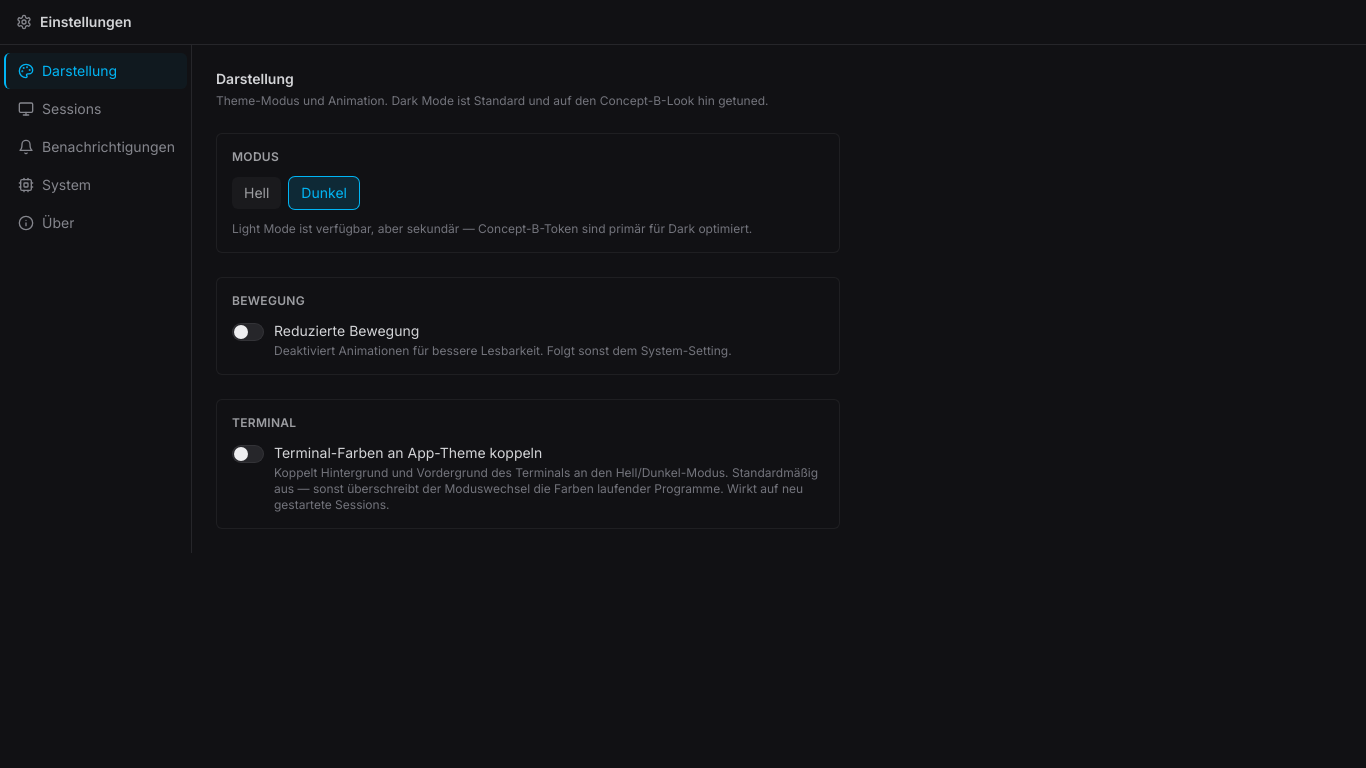
it: PreferencesView › switches the active panel when a different category is clicked
Expected: the heading "Darstellung" is shown, [216, 69, 294, 89]
Step 1. Click the button "Sessions" → (96, 109), box [4, 91, 187, 127]
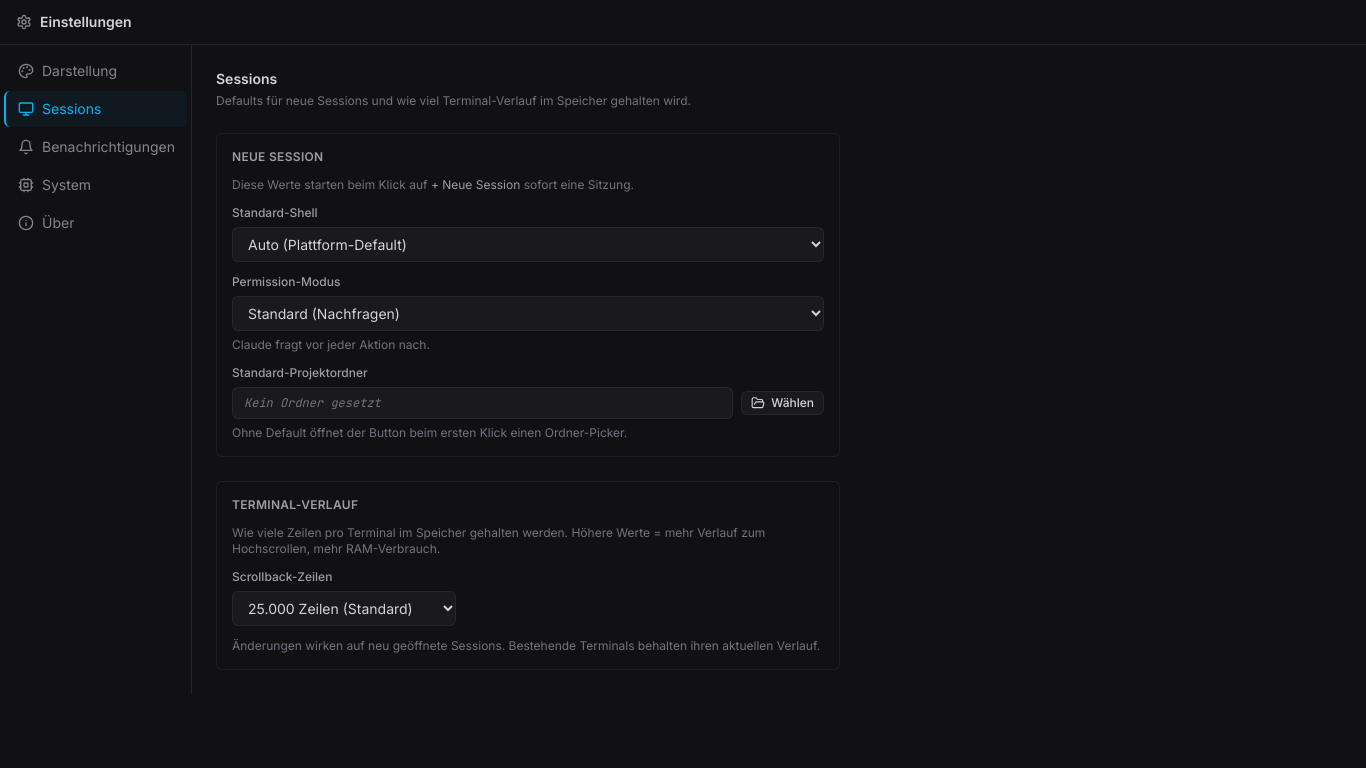
Result: the heading "Sessions" is shown at [216, 69, 277, 89]
Result: the heading "Neue Session" is shown at [232, 149, 323, 165]
Result: the heading "Terminal-Verlauf" is shown at [232, 497, 358, 513]
